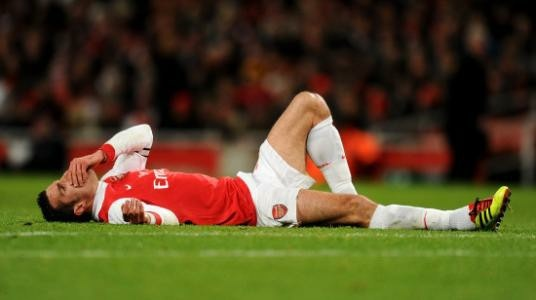falling: (28, 84, 514, 226)
